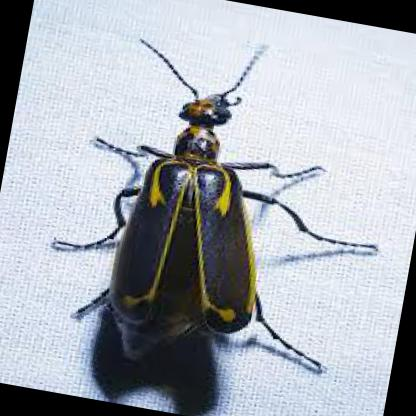blister beetle: (81, 41, 323, 367)
